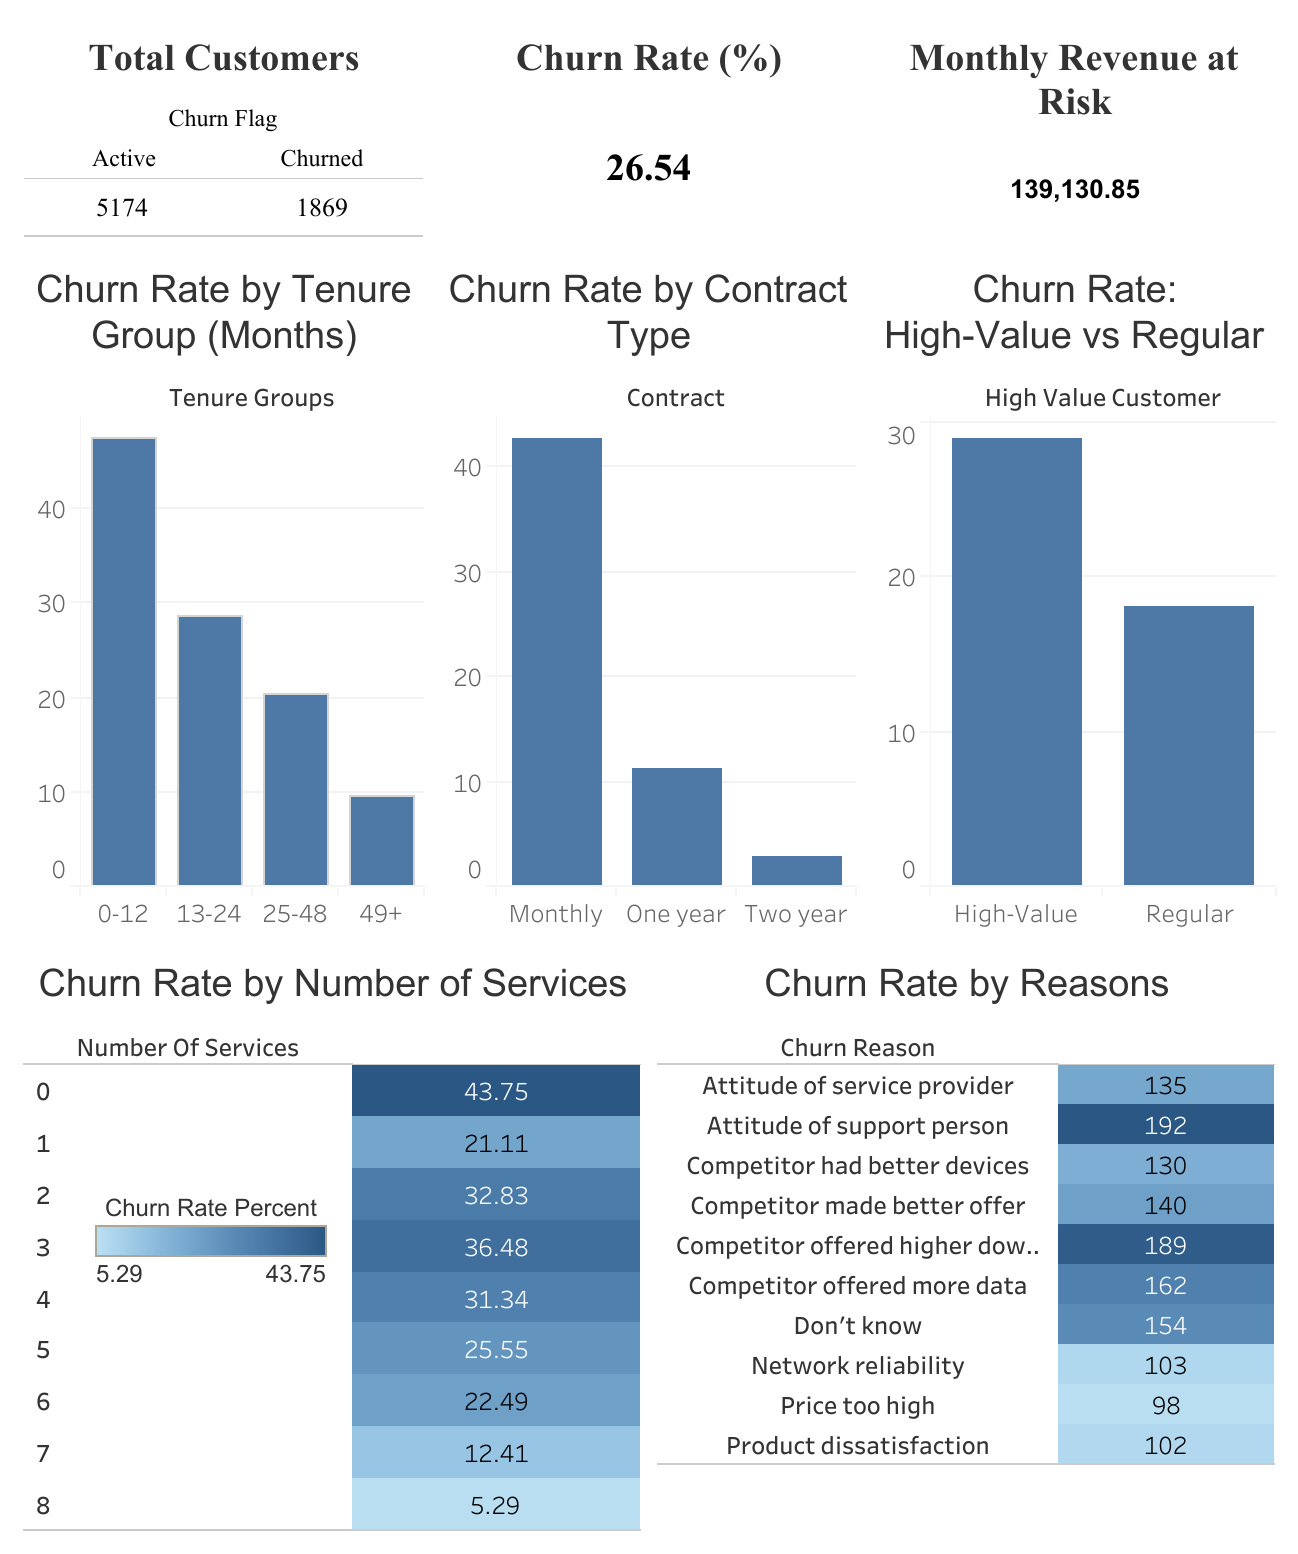

What the dashboard file says about the page in this screenshot:
{"tool":"tableau","page":{"name":"Dashboard 1","canvas":[650,860],"ordinal":0},"visuals":[{"type":"worksheet","title":"Sheet 2","mark":"Automatic","cols":["churn_flag"],"box":[8,9.8,208,126.7]},{"type":"worksheet","title":"Sheet 1","mark":"Automatic","box":[216,9.8,217,126.7]},{"type":"worksheet","title":"Sheet 6","mark":"Automatic","box":[433,9.8,209,126.7]},{"type":"worksheet","title":"Sheet 3","mark":"Automatic","rows":["churn_rate_percent"],"cols":["tenure_groups"],"box":[8,136.6,208,382.6]},{"type":"worksheet","title":"Sheet 4","mark":"Bar","rows":["churn_rate_percent"],"cols":["contract"],"box":[216,136.6,217,382.6]},{"type":"worksheet","title":"Sheet 5","mark":"Automatic","rows":["churn_rate_percent"],"cols":["high_value_customer"],"box":[433,136.6,209,382.6]},{"type":"worksheet","title":"Sheet 7","mark":"Square","rows":["number_of_services"],"box":[8,519.2,317,331]},{"type":"worksheet","title":"Sheet 8","mark":"Square","rows":["churn_reason"],"box":[325,519.2,317,331]},{"type":"legend","title":"Sheet 7","param":"[federated.1iec5ip1ci1qhi1fxwi0p1c5juj8].[sum:churn_rate_percent:qk]","box":[44,655.8,124,68.9]}]}

Visuals, with their boxes on the page's 650x860 design canvas (x1, y1, x2, y2). These are canvas units, not pixel positions in the 1298x1554 screenshot, which may show the page scaled, cropped or inside an application window:
"Sheet 2" worksheet: Rect(8, 10, 216, 136)
"Sheet 1" worksheet: Rect(216, 10, 433, 136)
"Sheet 6" worksheet: Rect(433, 10, 642, 136)
"Sheet 3" worksheet: Rect(8, 137, 216, 519)
"Sheet 4" worksheet (Bar marks): Rect(216, 137, 433, 519)
"Sheet 5" worksheet: Rect(433, 137, 642, 519)
"Sheet 7" worksheet (Square marks): Rect(8, 519, 325, 850)
"Sheet 8" worksheet (Square marks): Rect(325, 519, 642, 850)
"Sheet 7" legend: Rect(44, 656, 168, 725)
